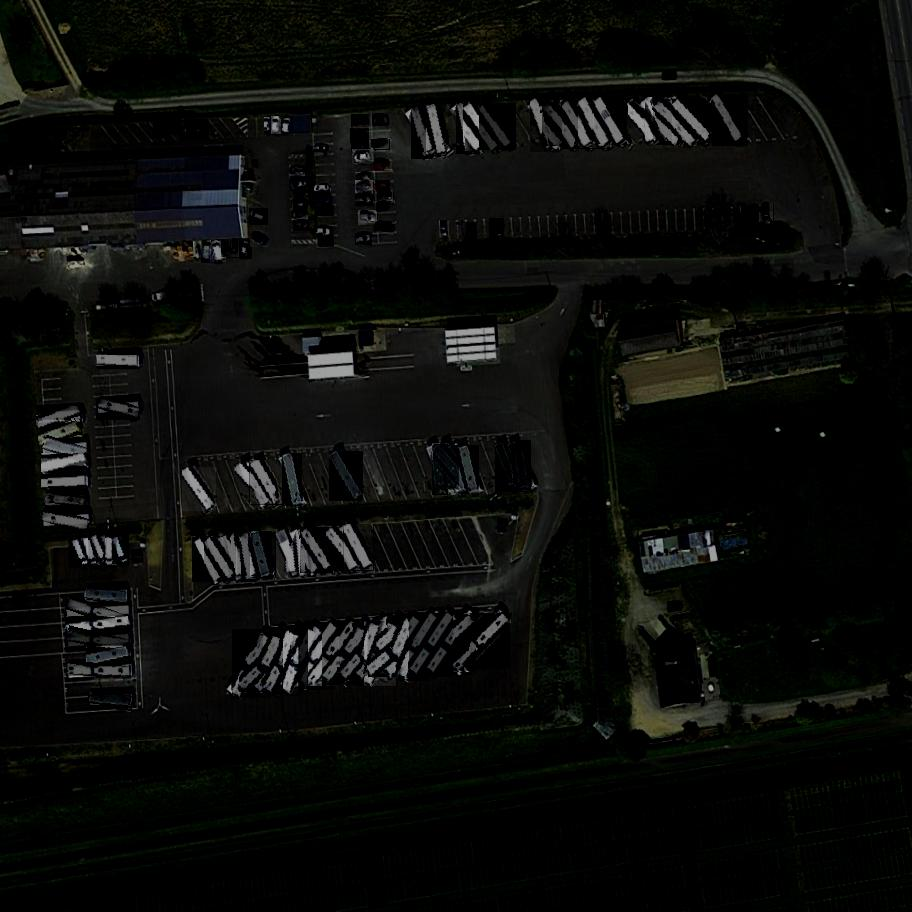large-vehicle: (419, 615, 479, 672), (368, 622, 428, 678), (338, 623, 393, 683), (322, 623, 374, 686), (238, 634, 293, 693), (455, 613, 512, 669), (307, 626, 358, 686), (409, 614, 456, 678), (263, 627, 302, 696), (299, 623, 335, 691), (232, 630, 267, 699), (364, 616, 398, 687), (621, 101, 668, 149), (653, 100, 702, 145), (399, 613, 431, 681), (283, 625, 313, 696), (672, 98, 716, 143), (710, 95, 748, 147), (541, 103, 584, 148), (433, 445, 474, 492), (643, 98, 680, 150), (463, 103, 502, 152), (478, 102, 517, 150), (560, 100, 597, 149), (328, 451, 363, 502), (65, 599, 130, 626), (325, 527, 364, 571), (578, 97, 610, 150), (299, 527, 335, 574), (233, 464, 273, 506), (593, 97, 627, 146), (530, 98, 560, 153), (182, 467, 218, 512), (202, 538, 237, 582), (250, 460, 283, 506), (191, 537, 223, 583), (495, 444, 525, 493), (344, 524, 375, 571), (276, 530, 304, 579), (66, 616, 131, 637), (66, 632, 131, 651), (36, 406, 83, 431), (38, 421, 82, 447), (282, 454, 303, 507), (411, 107, 432, 159), (426, 104, 447, 156), (41, 453, 88, 476), (455, 103, 476, 154), (42, 438, 88, 461), (251, 531, 273, 579), (225, 533, 246, 582), (459, 445, 479, 494), (96, 399, 140, 421), (41, 512, 90, 531), (86, 647, 131, 667), (514, 441, 531, 491), (433, 444, 449, 495), (241, 533, 257, 582), (45, 492, 88, 510), (66, 665, 130, 677), (41, 474, 86, 489), (296, 529, 310, 577), (84, 588, 128, 603), (88, 694, 134, 708), (97, 356, 138, 369)
small-vehicle: (89, 532, 114, 568), (69, 535, 94, 568), (113, 533, 133, 566), (83, 535, 101, 567), (186, 120, 210, 141), (105, 533, 118, 566), (249, 230, 271, 248), (490, 217, 506, 241), (210, 240, 226, 264), (153, 119, 172, 139), (178, 120, 196, 141), (759, 203, 775, 226), (201, 240, 216, 264), (248, 209, 269, 226), (352, 150, 375, 165), (350, 128, 370, 145), (290, 176, 311, 191), (355, 180, 375, 195), (465, 223, 479, 243), (240, 239, 254, 259), (24, 302, 49, 313), (351, 115, 370, 129), (358, 210, 378, 223), (231, 238, 244, 258), (281, 116, 293, 137), (293, 218, 311, 232), (351, 141, 370, 154), (153, 292, 172, 305), (167, 121, 182, 137), (292, 207, 309, 221), (376, 221, 395, 233), (222, 239, 234, 258), (355, 194, 373, 206), (355, 234, 373, 246), (439, 220, 450, 239), (290, 165, 306, 178), (378, 190, 394, 203), (316, 205, 334, 216), (318, 235, 334, 246), (742, 205, 751, 224), (272, 117, 282, 134), (372, 116, 389, 126), (662, 69, 677, 80), (375, 181, 391, 191), (372, 140, 389, 149), (375, 161, 392, 170), (668, 602, 683, 612), (295, 187, 310, 197), (293, 199, 308, 209), (750, 204, 758, 222), (357, 174, 372, 183), (316, 226, 331, 235), (317, 196, 332, 204), (314, 185, 329, 193), (264, 117, 271, 133), (52, 303, 67, 310), (377, 202, 389, 210), (314, 145, 327, 152)
